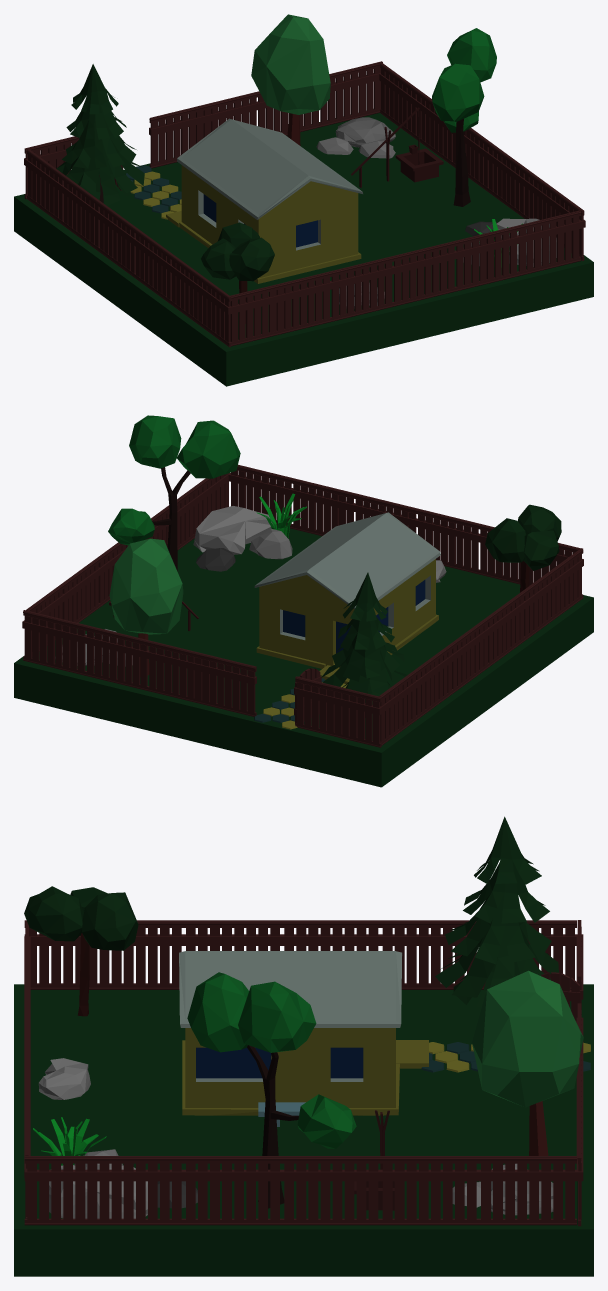
The model's file is Dacha.FBX.
The picture shows the model from 3 angles, top to bottom: view 1: azimuth 30°, elevation 25°; view 2: azimuth 150°, elevation 25°; view 3: azimuth 270°, elevation 25°; orthographic projection. The views are drawn at different scales.
Visible parts, largest first — view 1: Dacha; view 2: Dacha; view 3: Dacha.
Part boxes in pixels (bbox=[...]): Dacha: bbox=[14, 14, 593, 386]; Dacha: bbox=[14, 415, 593, 787]; Dacha: bbox=[14, 816, 593, 1276].
Size of the model in its own units: 10000 by 5273 by 10000.
